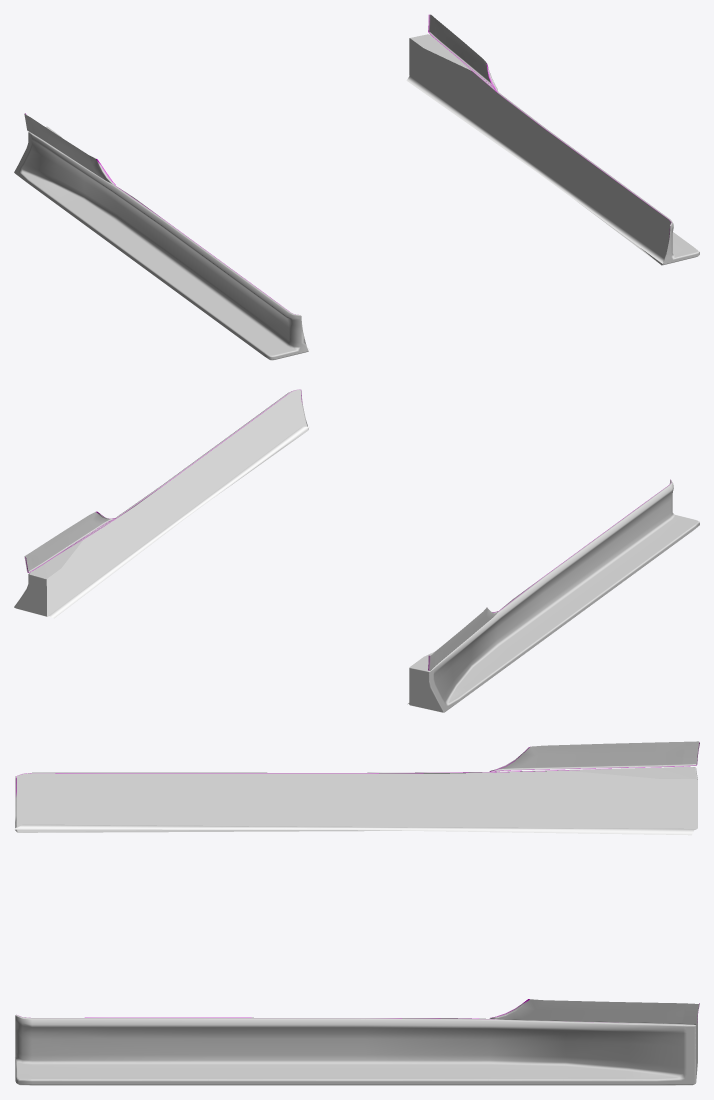
Rendered from Car_Nissan_SkylineGTRVspecR34_1999_Skirts_SetF_AltA.fbx.
The picture shows the model from 3 angles, top to bottom: view 1: azimuth 30°, elevation 25°; view 2: azimuth 150°, elevation 25°; view 3: azimuth 270°, elevation 25°; orthographic projection. The views are drawn at different scales.
Visible parts, largest first — view 1: Skirts 6; view 2: Skirts 6; view 3: Skirts 6.
Boxes of the visible parts, <box> form: Skirts 6: <box>14,14,699,360</box>; Skirts 6: <box>14,389,699,712</box>; Skirts 6: <box>14,741,699,1085</box>.
Bounding box in the file's own units: 1.84 × 0.2352 × 1.92.
